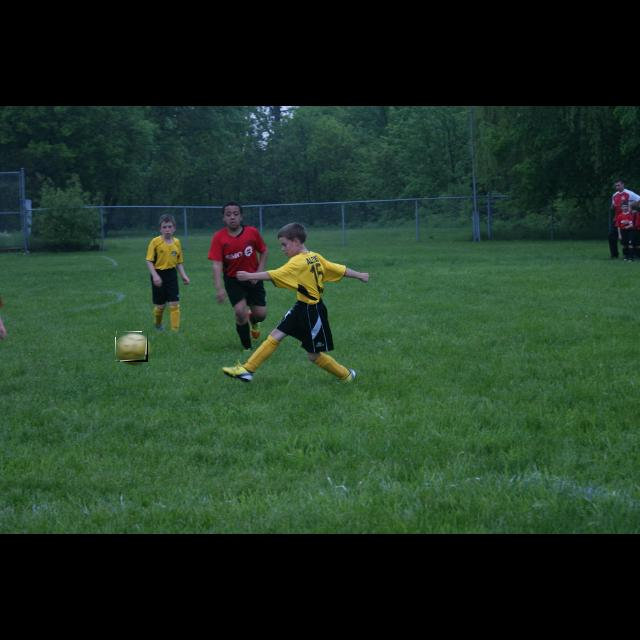Football: (116, 332, 148, 362)
